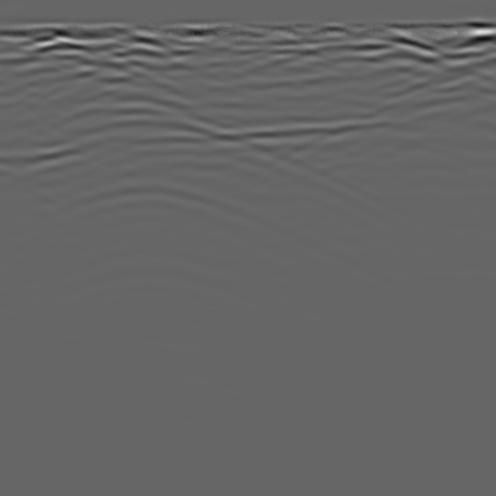hyperbola: (14, 101, 296, 231)
